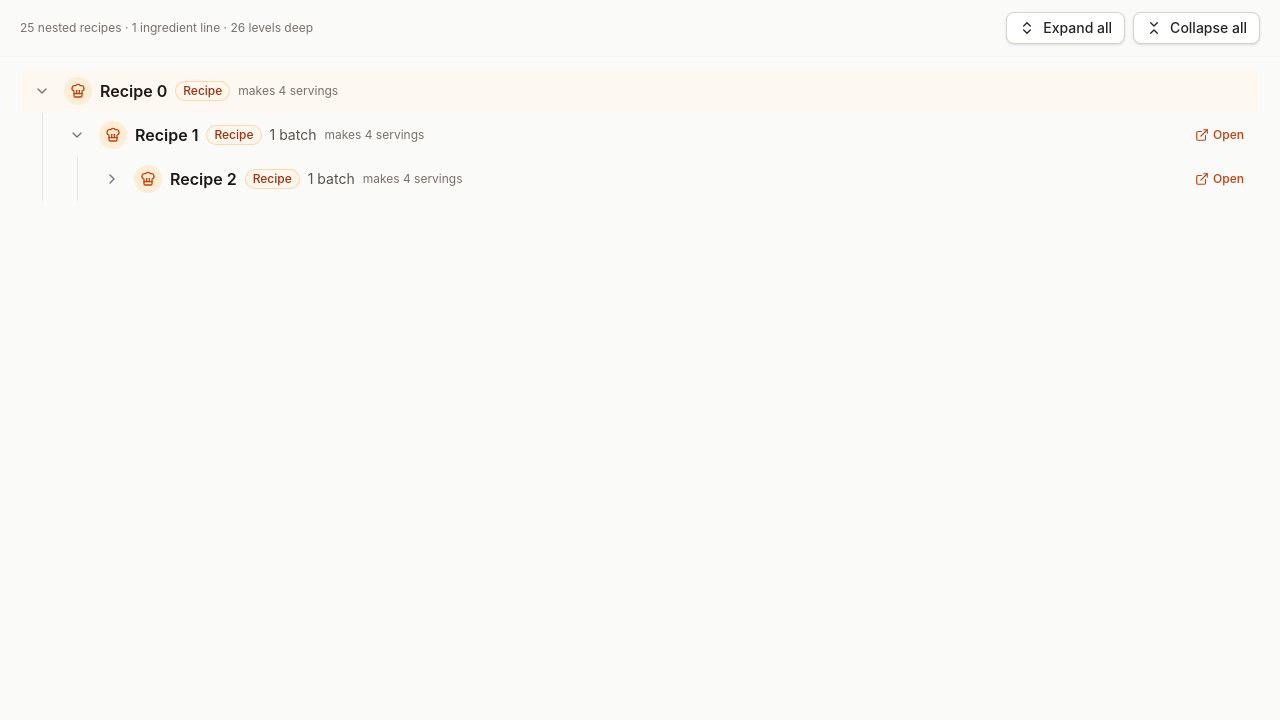
Test: RecipeTree › renders arbitrarily deep nesting recursively (Expand all / Collapse all)
This screenshot has width=1280, height=720.
Click the button "Expand all" at coordinates (1066, 28), box [1006, 12, 1125, 44]
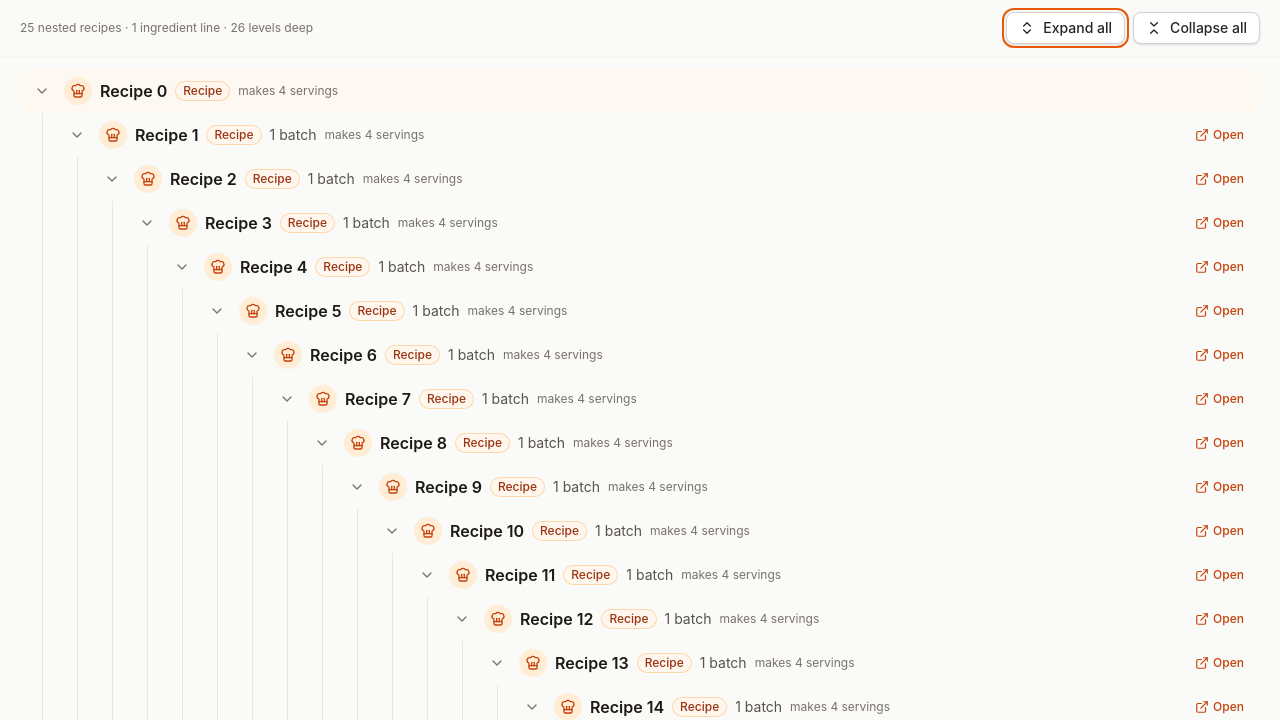
Click the button "Collapse all" at coordinates (1197, 28), box [1133, 12, 1260, 44]
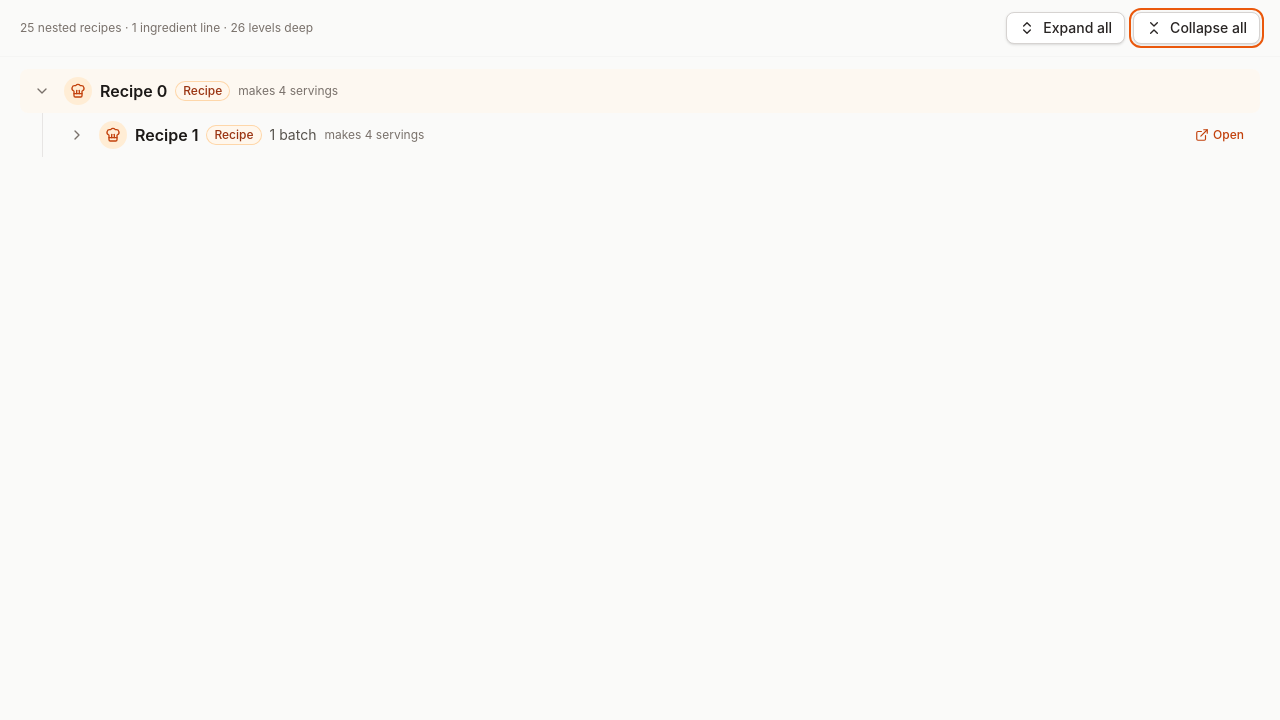
Check: the text "Recipe 1" is shown, box [135, 123, 198, 147]
Check: the text "Recipe 2" is gone
